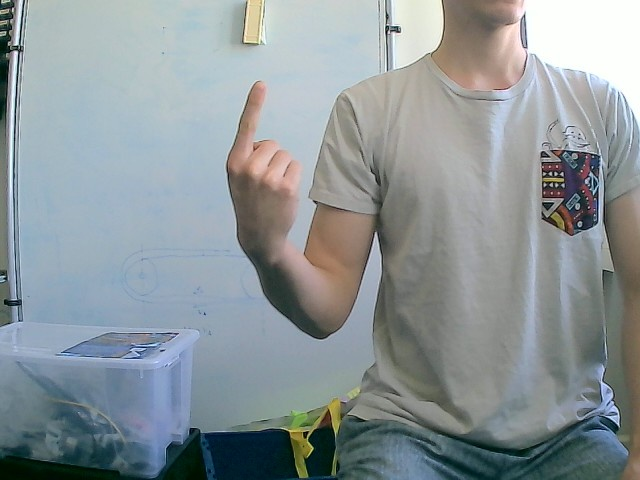up: (225, 79, 303, 260)
